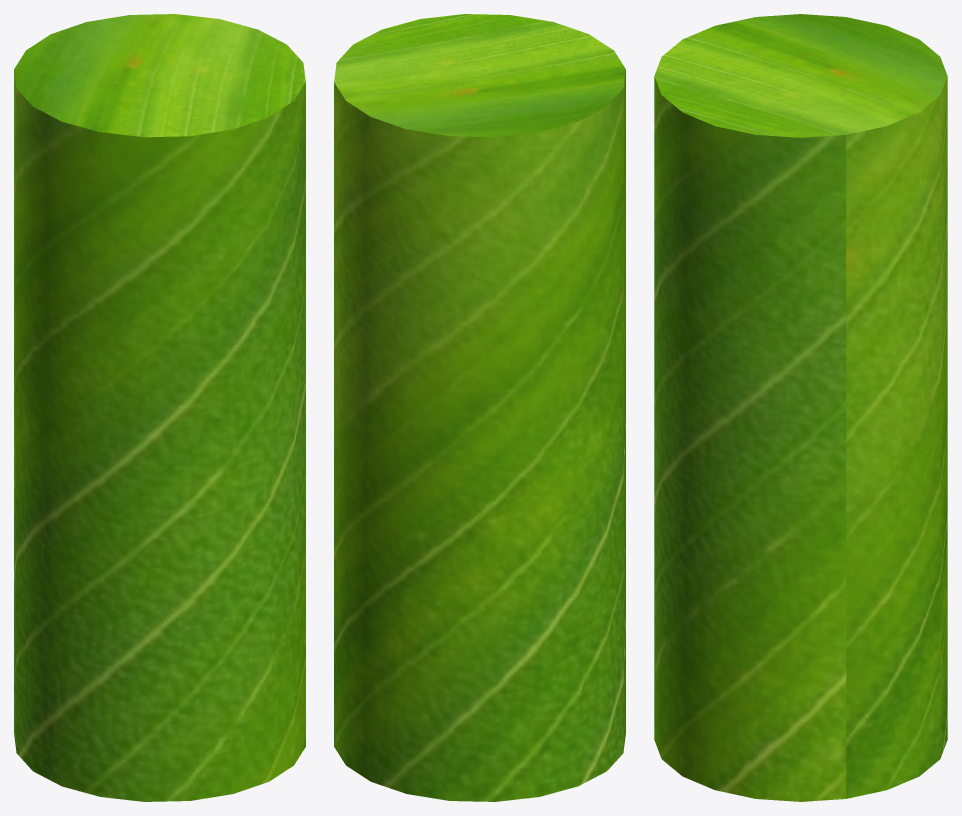
Rendered from model_roller_spring_01.obj.
3 views of the same model, side by side, from view 1: azimuth 30°, elevation 25°; view 2: azimuth 150°, elevation 25°; view 3: azimuth 270°, elevation 25° (orthographic).
Visible parts, largest first — view 1: pCylinder1; view 2: pCylinder1; view 3: pCylinder1.
Part boxes in pixels (x1,y1,x2,y2): pCylinder1: (14,14,305,801); pCylinder1: (334,14,625,801); pCylinder1: (654,14,947,801).
Bounding box in the file's own units: 6 × 15 × 6.
Materials: 1 (1 with a texture image).
